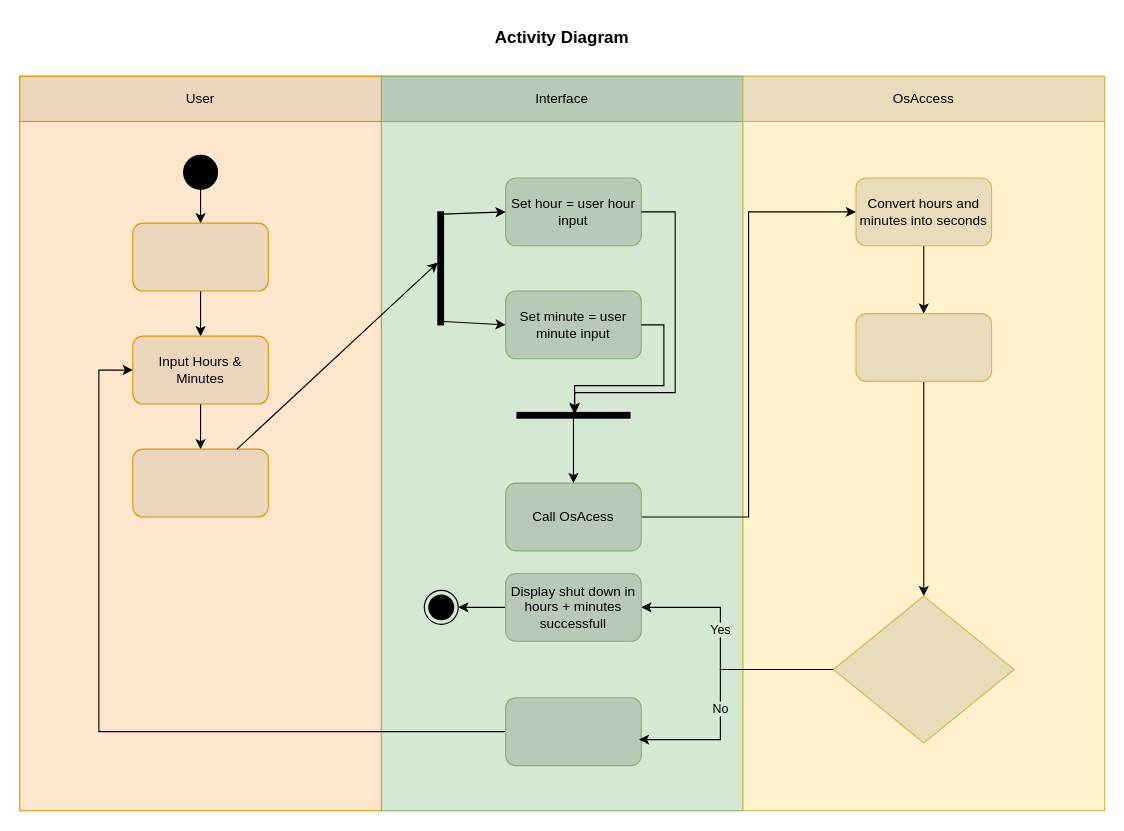
This 1124x831 diagram has some shape labels left out. Each missing label, with the box of its shape:
Call Run with shut down command with seconds: (855, 312, 992, 381)
Did the command successfully execute?: (832, 595, 1014, 743)
Display shut down not successfull: (505, 697, 641, 766)
Open Application: (132, 222, 268, 291)
Press Submit: (132, 448, 268, 517)
